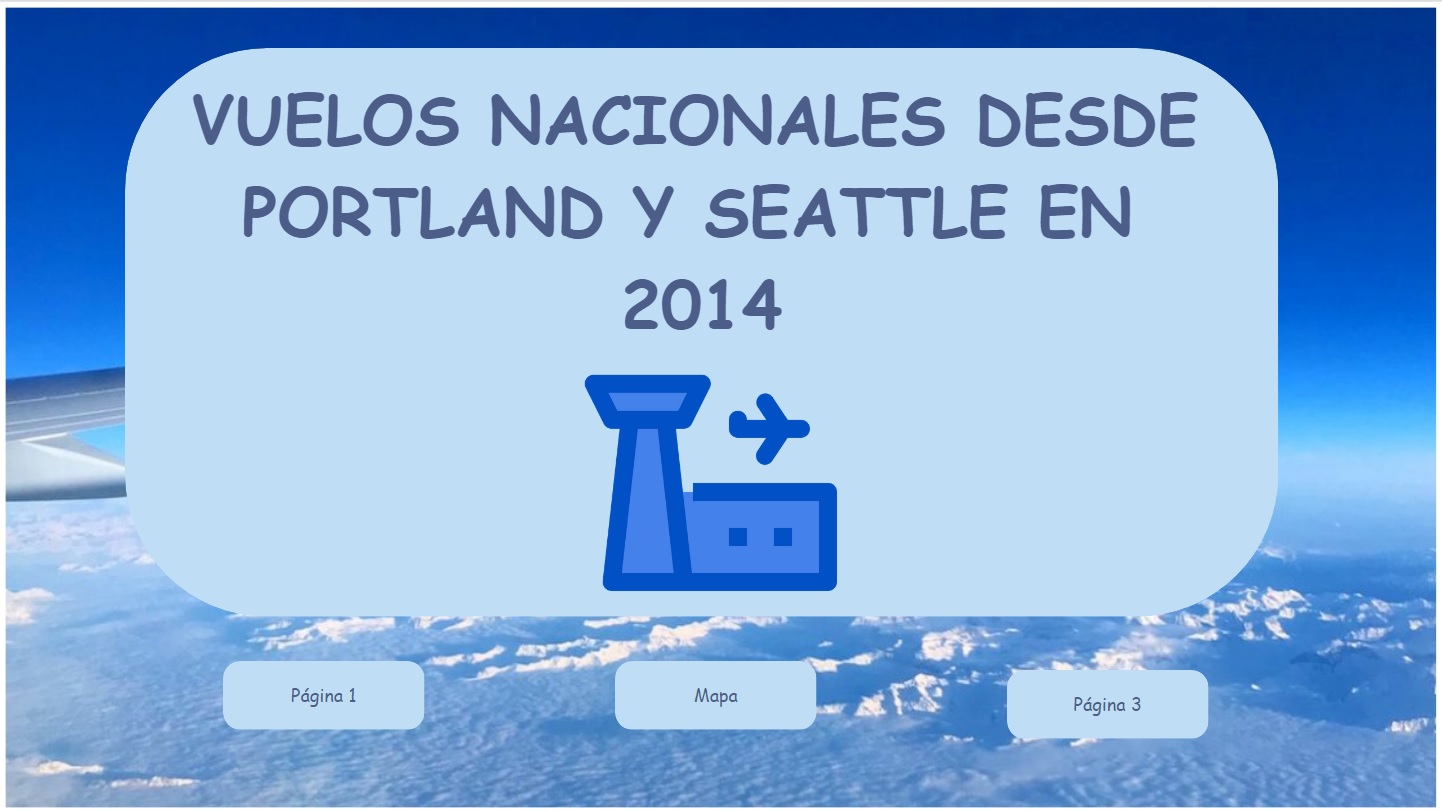

The page's visual inventory and layout, read from the dashboard file:
{"tool":"powerbi","page":{"name":"Titular","canvas":[1280,720],"ordinal":0},"visuals":[{"type":"image","box":[0,0,1280.3,720],"z":0},{"type":"shape","box":[111.3,41.1,1023.7,504.6],"z":1000},{"type":"textbox","box":[164.6,55.7,917.2,266.2],"z":2000},{"type":"image","box":[490.1,294.1,280.7,266.2],"z":3000},{"type":"shape","box":[198,585,179.1,60.5],"z":4000},{"type":"shape","box":[545.9,585,179.1,60.5],"z":5000},{"type":"shape","box":[893.8,593.4,179.1,60.5],"z":6000}]}

Visuals, with their boxes in screenshot pixels (x1, y1, x2, y2), scaled from the page's 1280x720 canvas onto the 1442x811 screenshot:
image: locate(0, 0, 1441, 810)
shape: locate(125, 46, 1279, 615)
textbox: locate(185, 63, 1219, 363)
image: locate(552, 331, 868, 631)
shape: locate(223, 659, 425, 727)
shape: locate(615, 659, 817, 727)
shape: locate(1007, 668, 1209, 737)
